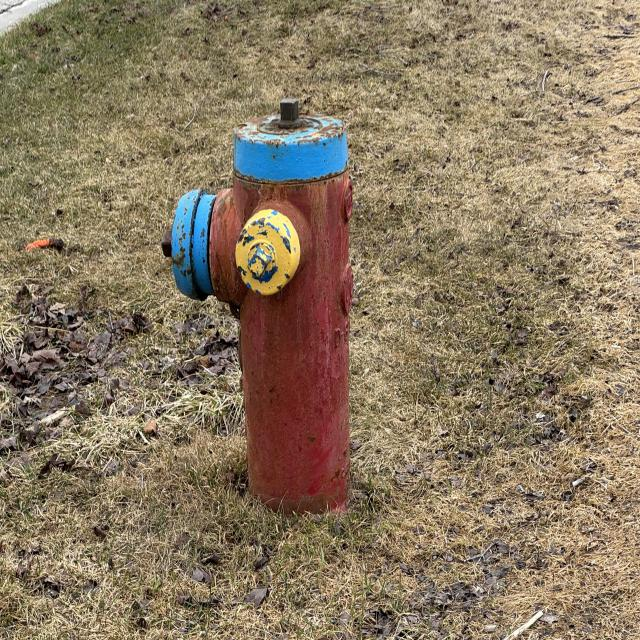Fire hydrant: (160, 97, 356, 525)
